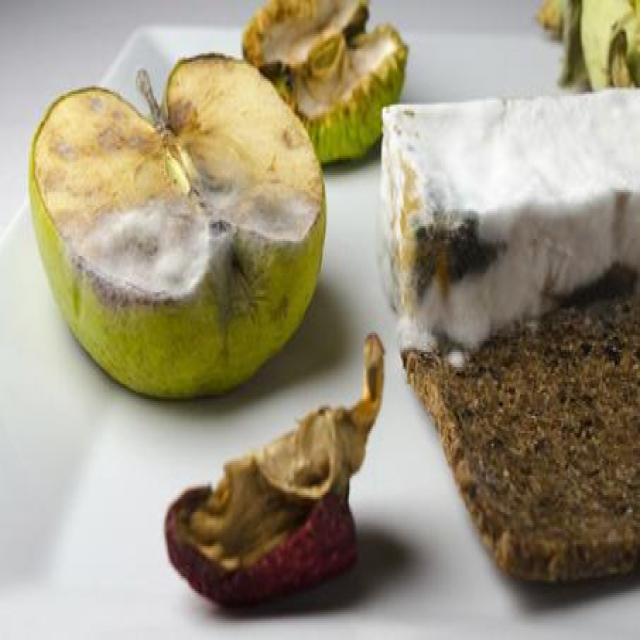Wet Waste: (25, 0, 414, 619)
